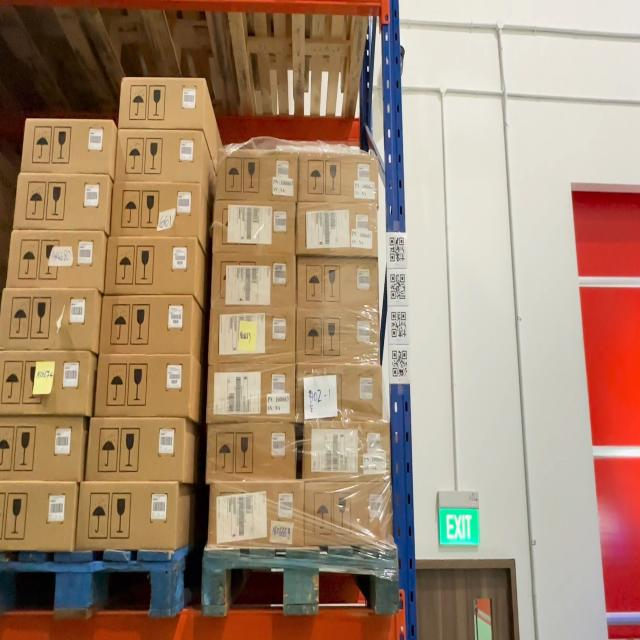box: (80, 483, 180, 550), (304, 480, 394, 546), (213, 482, 305, 546), (0, 350, 92, 413), (90, 419, 185, 480), (0, 416, 87, 482), (4, 288, 98, 349), (97, 355, 189, 415), (15, 172, 108, 230), (100, 295, 190, 354), (10, 232, 103, 289), (208, 422, 296, 482), (210, 365, 298, 422), (306, 421, 390, 480), (23, 120, 113, 175), (1, 482, 76, 548), (213, 253, 297, 311), (106, 240, 192, 294), (114, 182, 201, 235), (298, 366, 383, 419), (213, 309, 296, 361), (119, 130, 202, 182), (297, 309, 379, 361), (298, 259, 379, 310), (215, 201, 296, 252), (298, 203, 378, 254), (123, 79, 206, 128), (220, 150, 299, 200), (299, 155, 375, 203)
